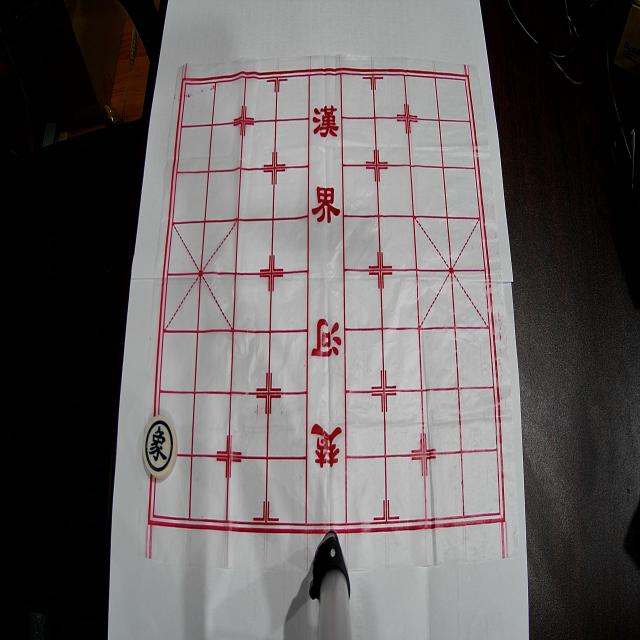black-elephant: (143, 415, 178, 479)
